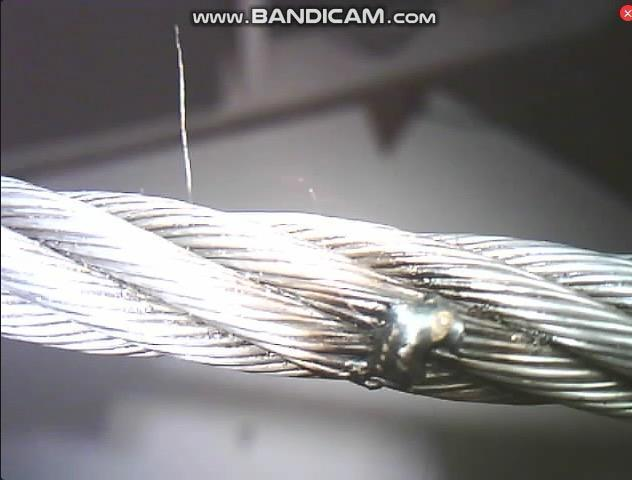thunderbolt: (353, 291, 492, 387)
